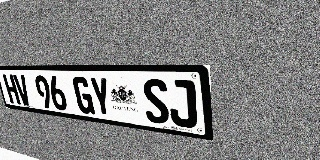6: (47, 76, 68, 111)
9: (33, 75, 54, 109)
G: (72, 76, 95, 115)
H: (2, 74, 21, 105)
J: (167, 79, 198, 129)
S: (142, 78, 170, 125)
V: (13, 75, 32, 106)
Y: (89, 77, 114, 117)
